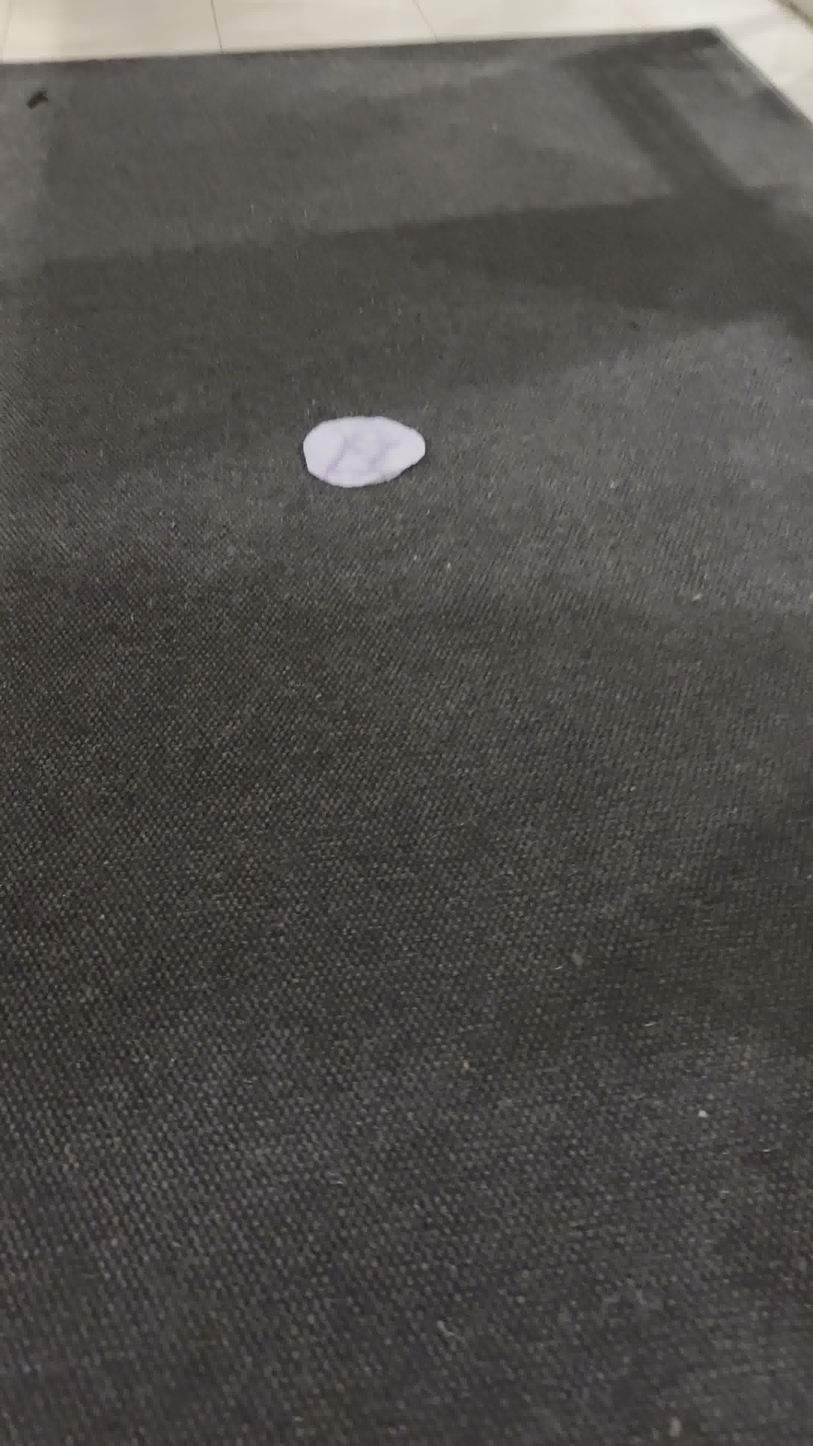Target: (300, 413, 428, 489)
